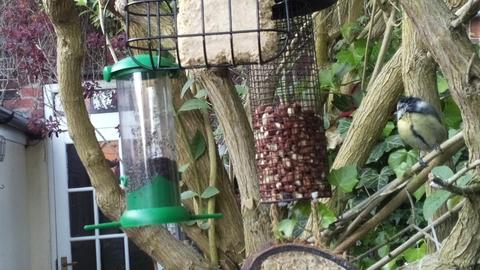blue tit: (393, 96, 447, 169)
